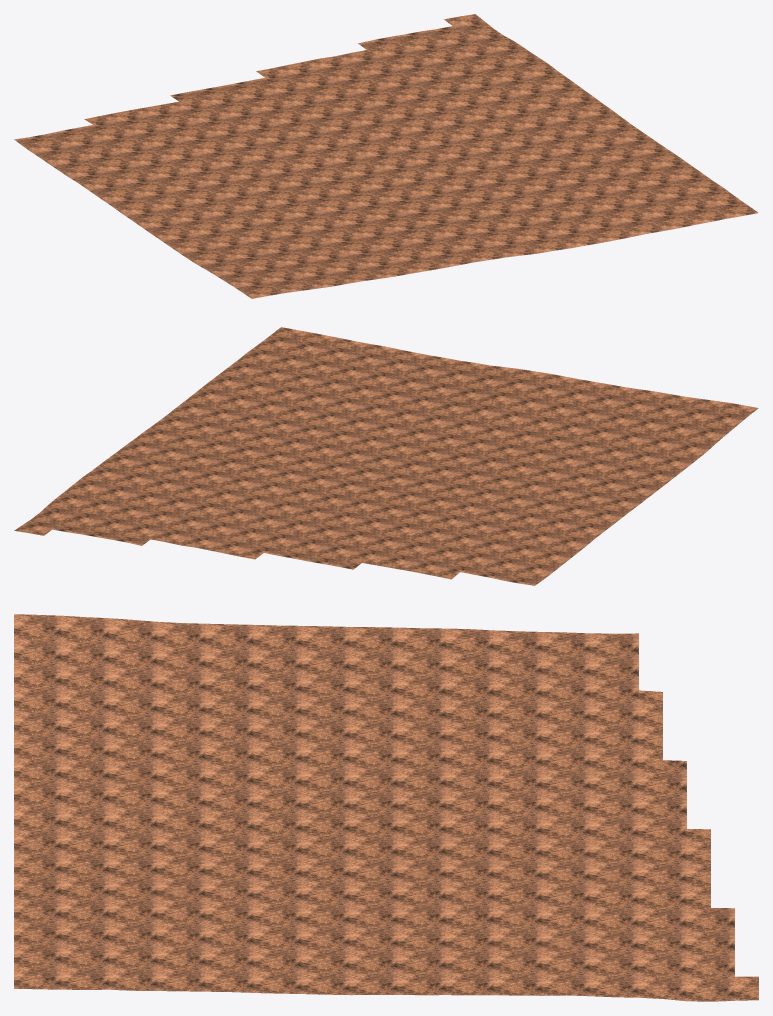
File: terrain_11_13.dae
3 renders of one model, top to bottom at view 1: azimuth 30°, elevation 25°; view 2: azimuth 150°, elevation 25°; view 3: azimuth 270°, elevation 25°, orthographic. The views are drawn at different scales.
Visible parts, largest first — view 1: terrain_11_13-node; view 2: terrain_11_13-node; view 3: terrain_11_13-node.
Boxes of the visible parts, x1,y1,x2,y2 form: terrain_11_13-node: [14, 14, 758, 298]; terrain_11_13-node: [14, 327, 758, 585]; terrain_11_13-node: [14, 614, 758, 1001].
Size of the model in its own units: 128 by 124 by 11.49.
Materials: 1 (1 with a texture image).
